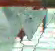Give way: (4, 0, 54, 49)
